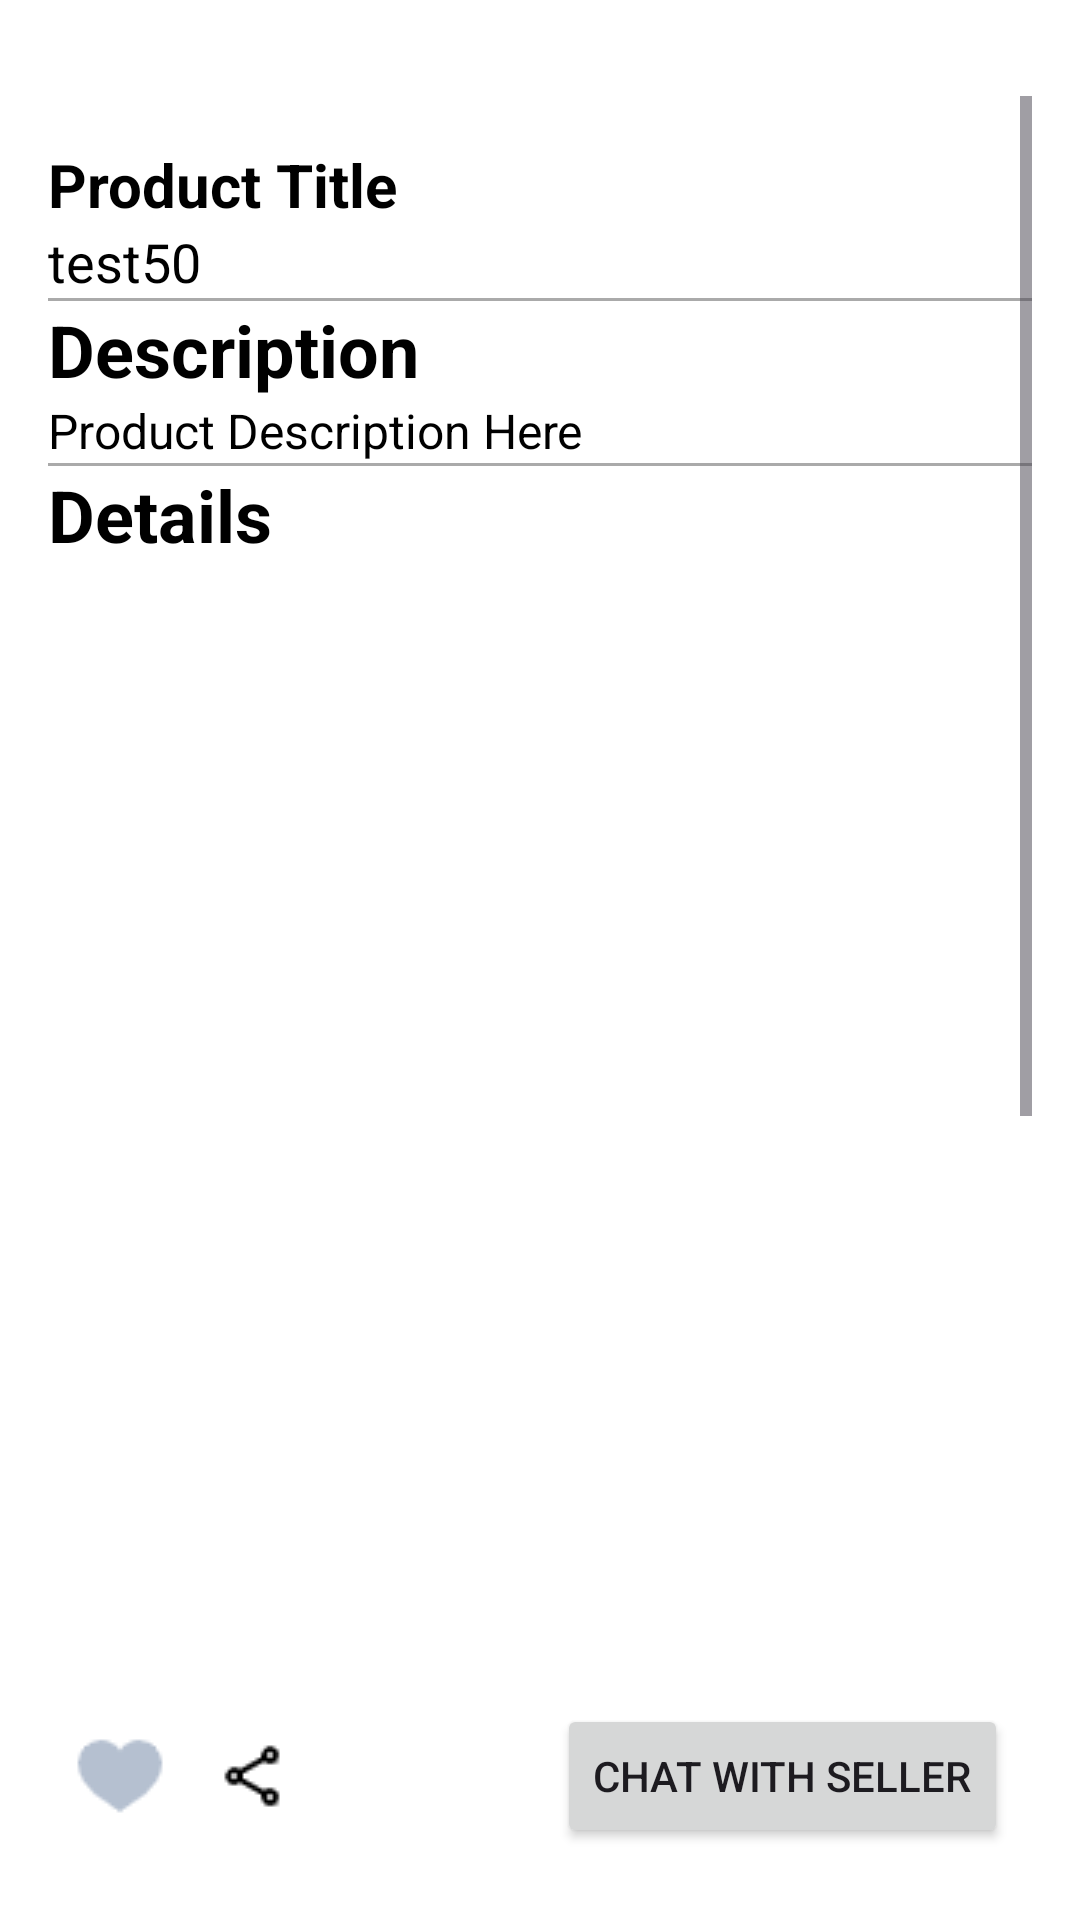

Where icons sit on this 1080×1920 app screen, as (x1, y1, x2, y2):
favorite unclick: (78, 1740, 163, 1812)
product detail share: (224, 1745, 280, 1807)
